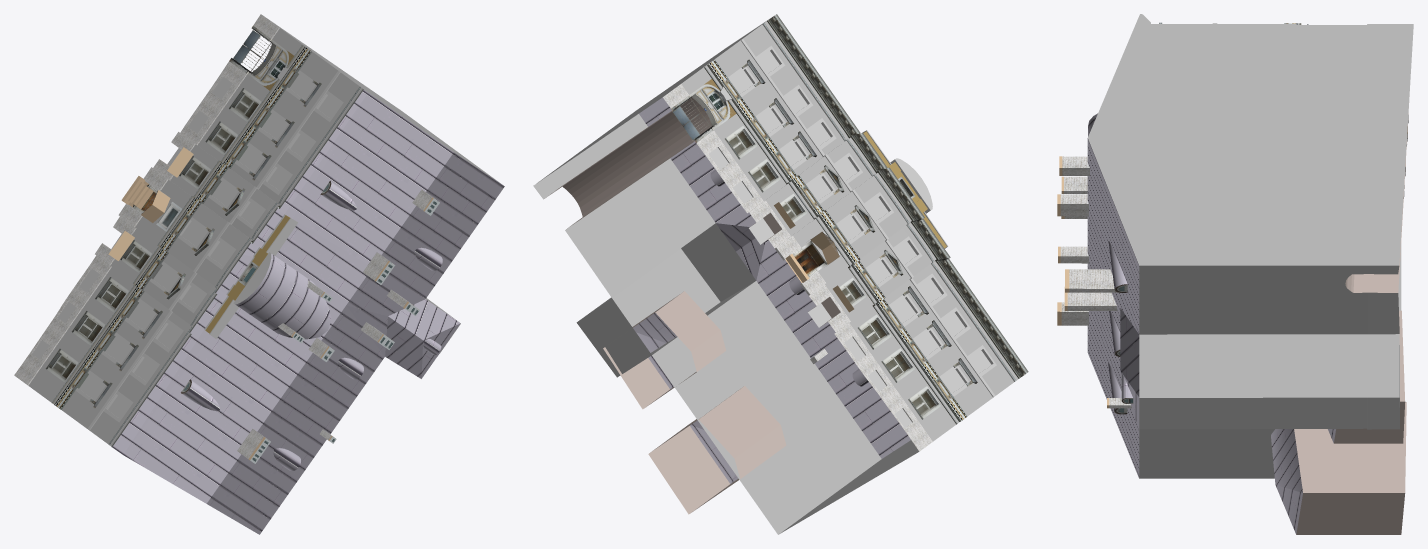
The model's file is Prn9_4.obj.
The picture shows the model from 3 angles, left to right: view 1: azimuth 30°, elevation 25°; view 2: azimuth 150°, elevation 25°; view 3: azimuth 270°, elevation 25°; orthographic projection. The views are drawn at different scales.
Parts seen in each view (by area): view 1: Parnu_mnt_9; view 2: Parnu_mnt_9; view 3: Parnu_mnt_9.
Boxes of the visible parts, x1,y1,x2,y2 form: Parnu_mnt_9: [14, 14, 504, 534]; Parnu_mnt_9: [533, 14, 1028, 534]; Parnu_mnt_9: [1057, 14, 1413, 534].
Bounding box in the file's own units: 31.21 × 31.98 × 19.49.
